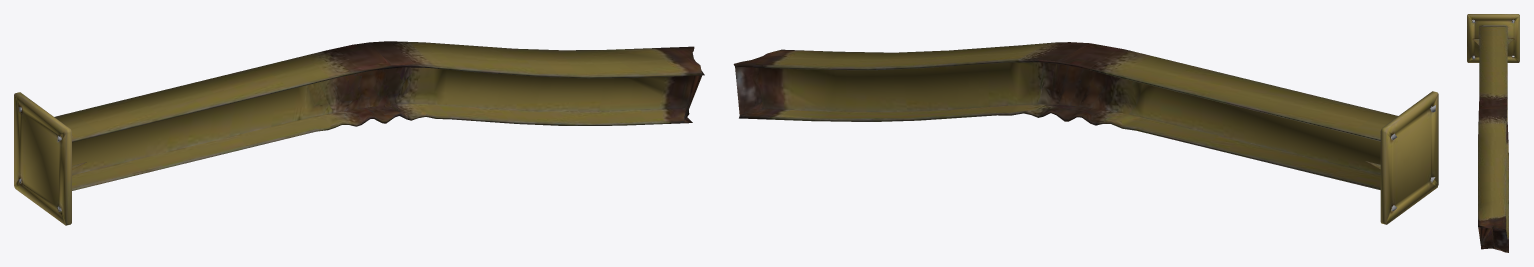
Rendered from industrial_column_bent_lod2.glb.
3 renders of one model, left to right at view 1: azimuth 30°, elevation 25°; view 2: azimuth 150°, elevation 25°; view 3: azimuth 270°, elevation 25°, orthographic. The views are drawn at different scales.
Parts seen in each view (by area): view 1: industrial_column_bent_paint; view 2: industrial_column_bent_paint; view 3: industrial_column_bent_paint, industrial_column_bent_weld.
Boxes of the visible parts, bbox=[...] form: industrial_column_bent_paint: bbox=[14, 41, 704, 225]; industrial_column_bent_paint: bbox=[733, 42, 1438, 224]; industrial_column_bent_paint: bbox=[1467, 14, 1519, 252]; industrial_column_bent_weld: bbox=[1480, 25, 1506, 26].
Bounding box in the file's own units: 4.1 × 0.925 × 0.5587.
3 materials, 1 textured.
